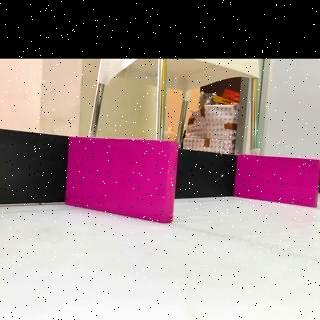xparking: (78, 141, 174, 214), (242, 158, 318, 200)
